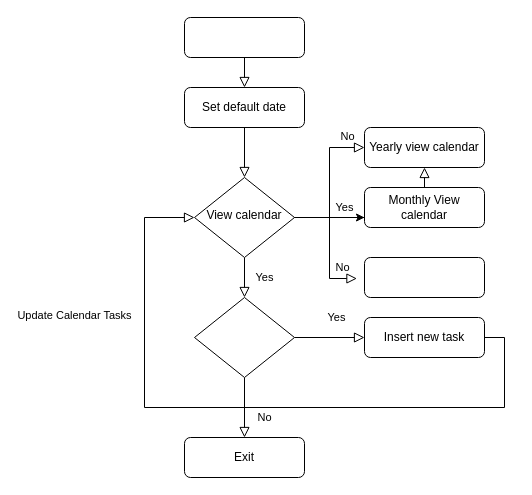
This 532x495 diagram has some shape labels left out. The shapes that lost their labels are listed below. From the top down, each one's box as (x1, y1, x2, y2) in pixels, then its label:
(184, 16, 304, 58): Start
(364, 256, 484, 298): Weekly View calendar
(194, 296, 294, 378): Task Insertion
